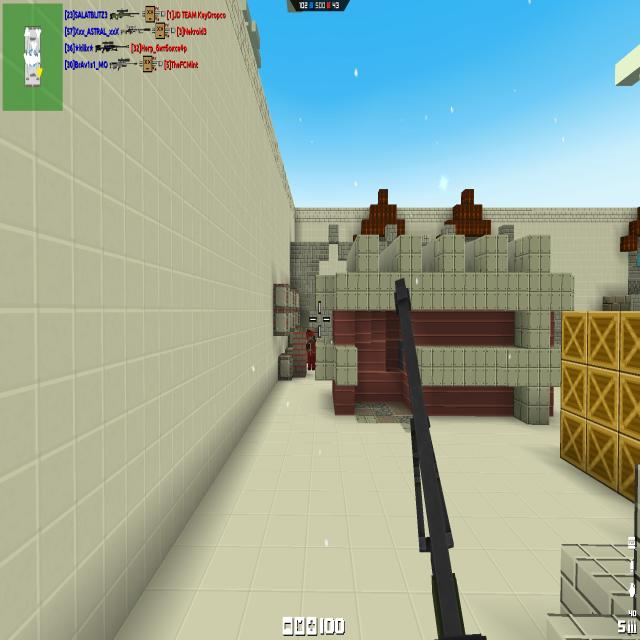player: (306, 330, 316, 372)
